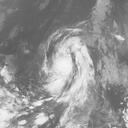cyclone: (39, 26, 97, 103)
